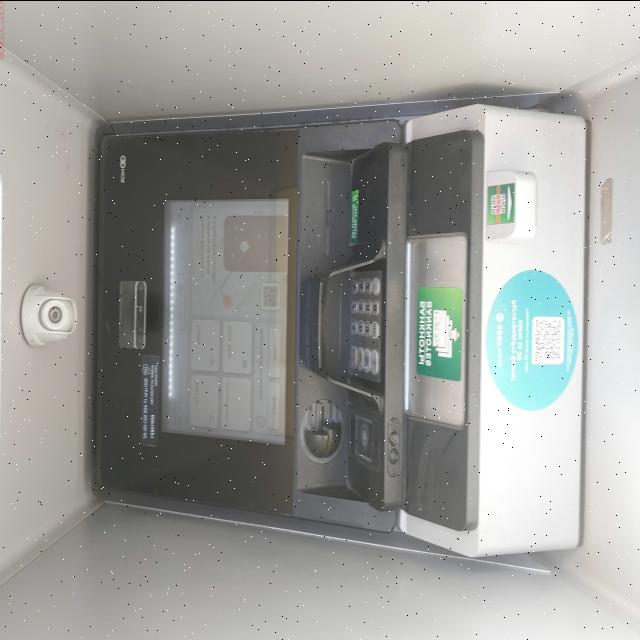bank: (61, 59, 624, 605)
